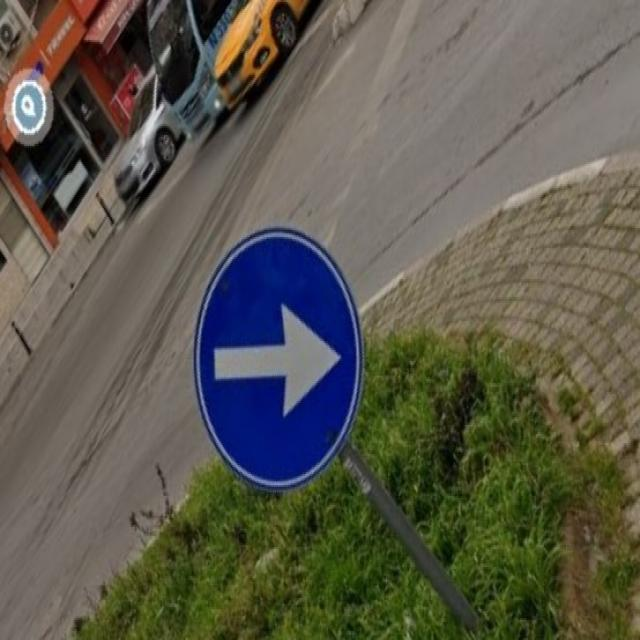Turn Right: (194, 226, 364, 498)
